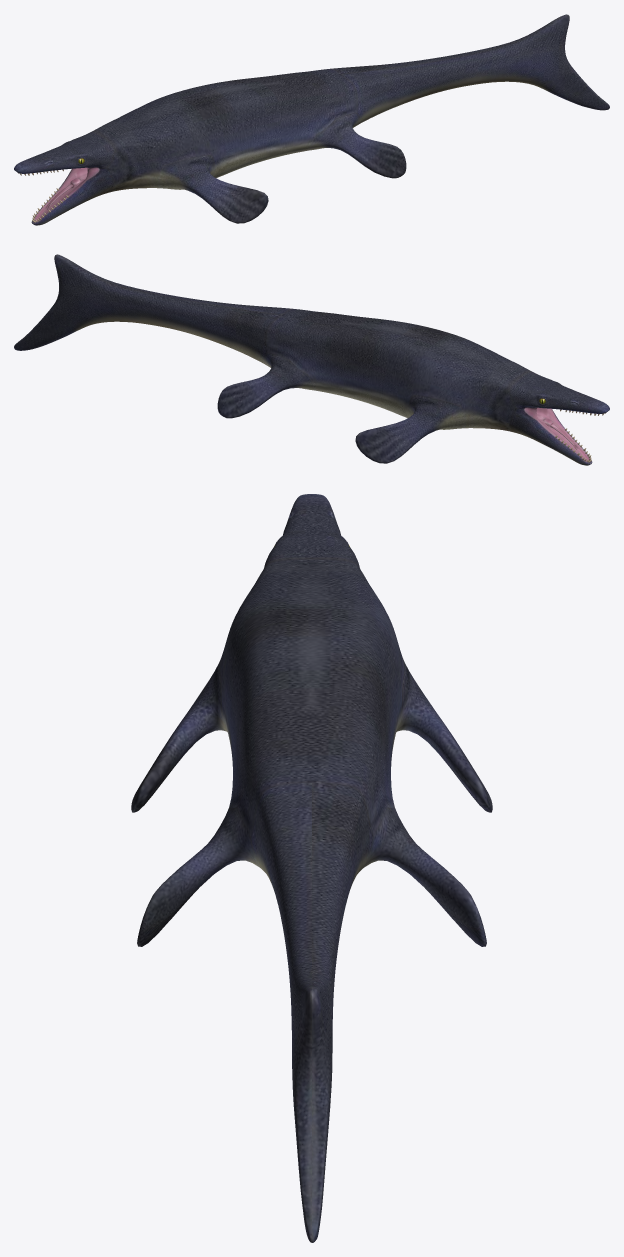
Rendered from mosasaurus.glb.
The picture shows the model from 3 angles, top to bottom: view 1: azimuth 30°, elevation 25°; view 2: azimuth 150°, elevation 25°; view 3: azimuth 270°, elevation 25°; orthographic projection. The views are drawn at different scales.
Visible parts, largest first — view 1: Animal; view 2: Animal; view 3: Animal.
Boxes of the visible parts, x1,y1,x2,y2 form: Animal: (14,14,609,225); Animal: (14,254,609,465); Animal: (131,494,492,1242).
Bounding box in the file's own units: 3.2 × 0.5807 × 0.8421.
Materials: 2 (2 with a texture image).
